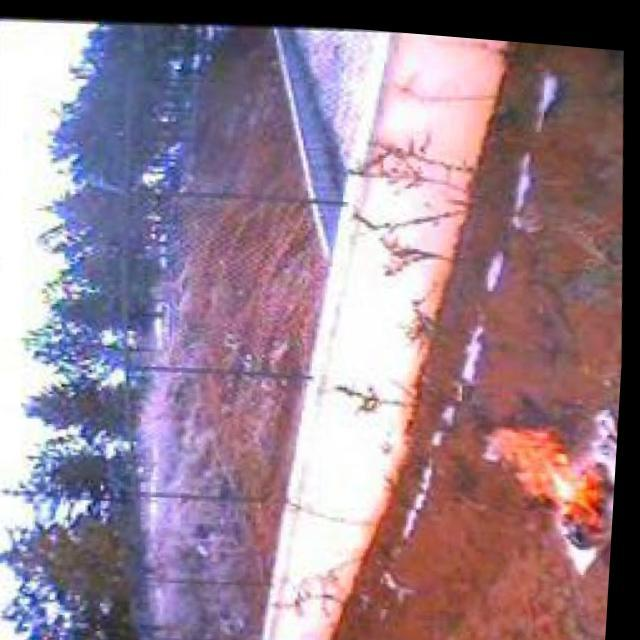fire: (474, 408, 622, 544)
